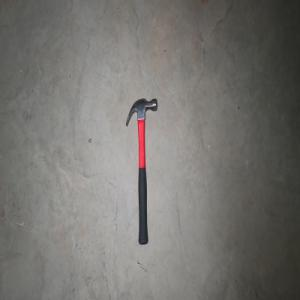Hammer: (125, 97, 157, 245)
